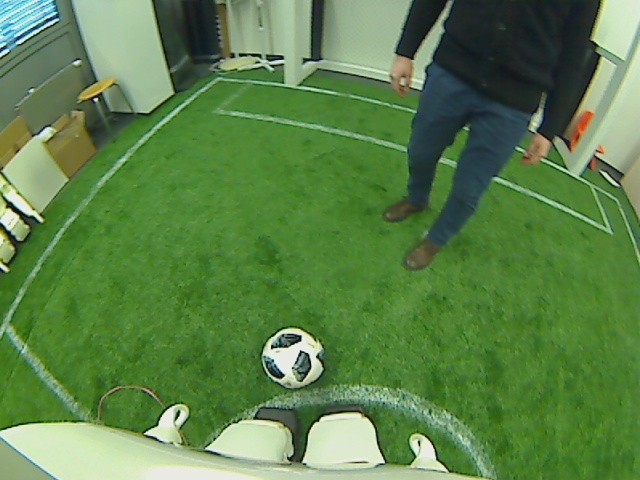ball: (258, 325, 326, 391)
